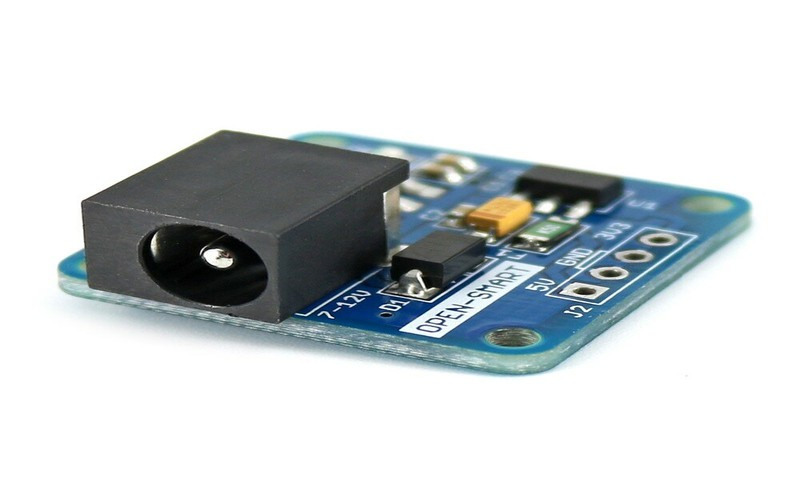Regulator: (31, 82, 763, 378)
